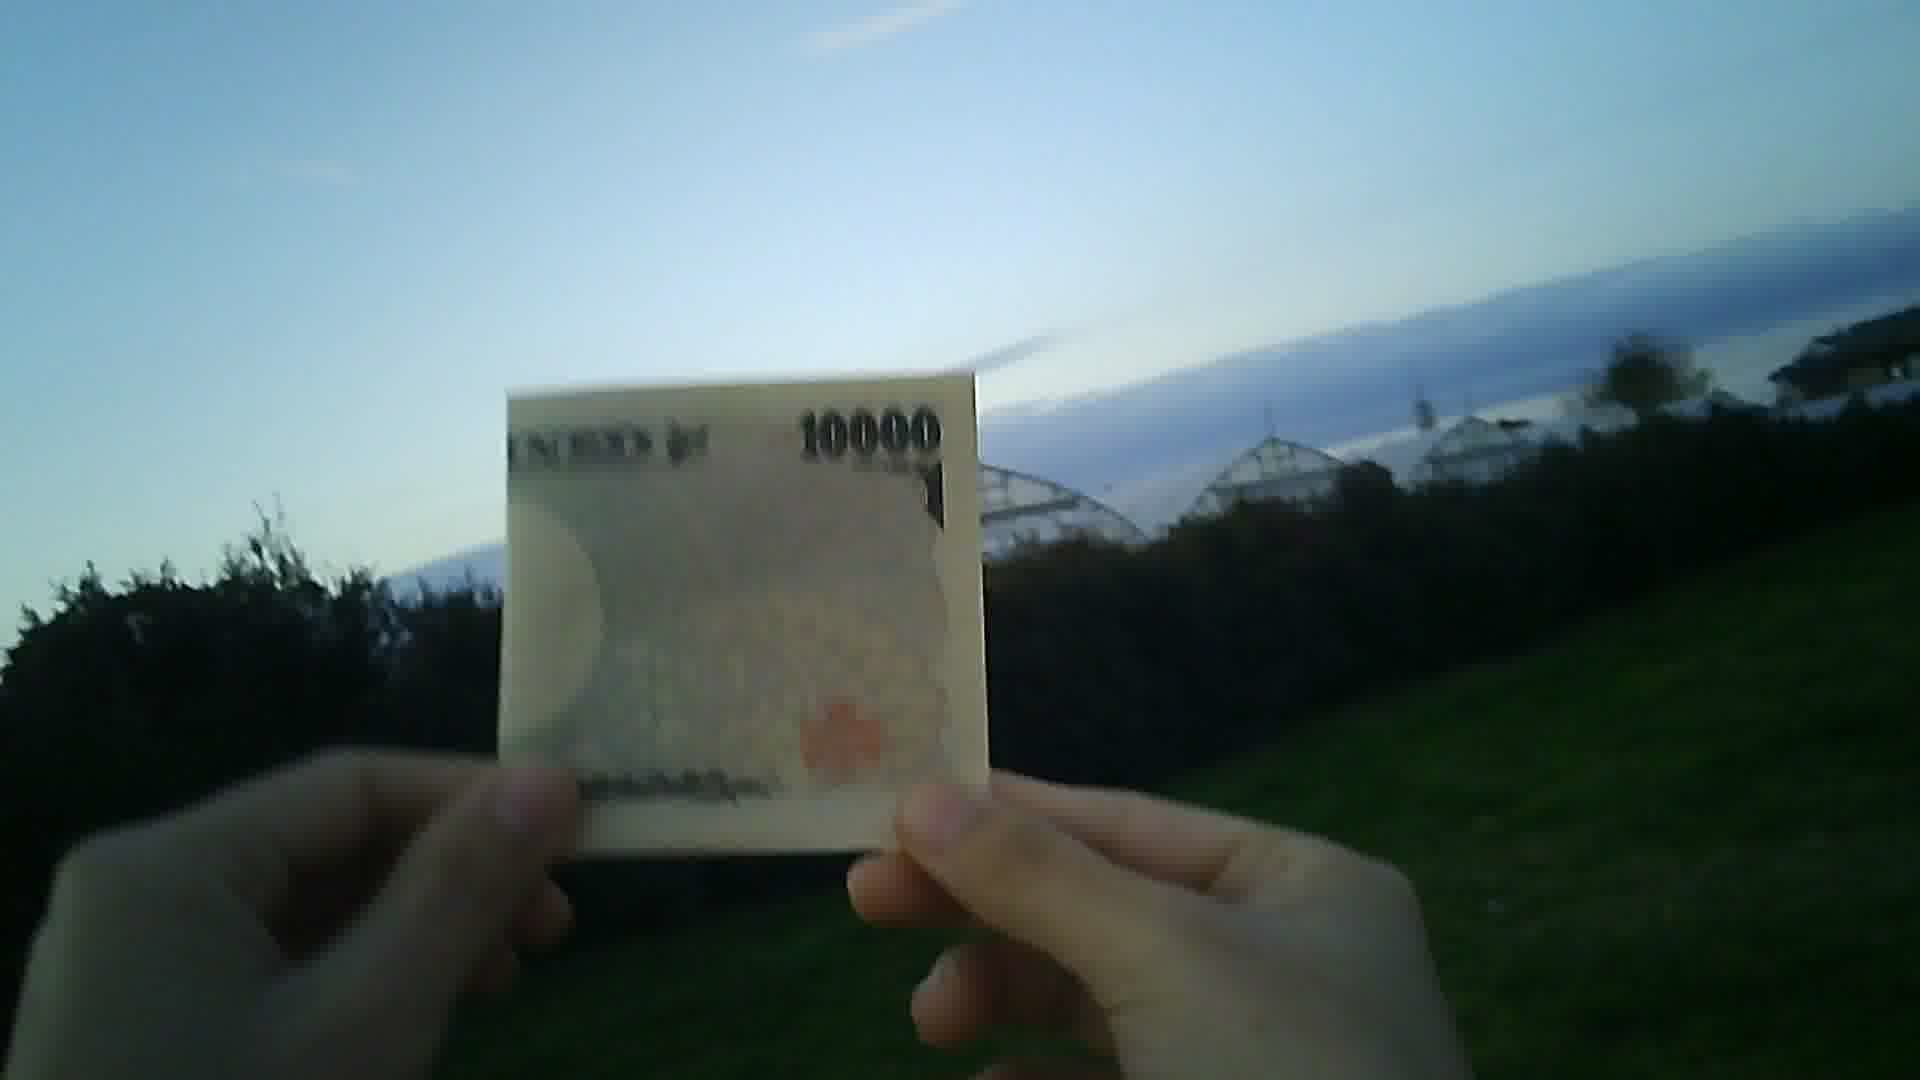10,000 Yen: (477, 339, 1021, 853)
